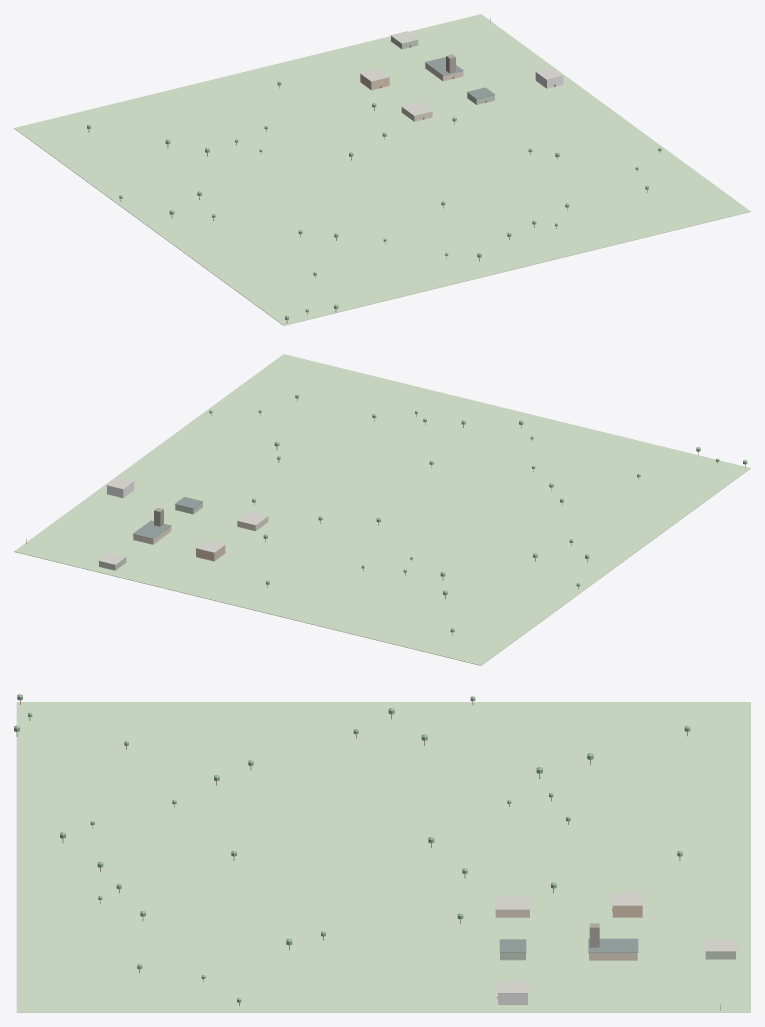
File: chunk_1_6_low.glb
3 renders of one model, top to bottom at view 1: azimuth 30°, elevation 25°; view 2: azimuth 150°, elevation 25°; view 3: azimuth 270°, elevation 25°, orthographic. The views are drawn at different scales.
Parts seen in each view (by area): view 1: city_grass, city_roof_tile, city_foliage_dark; view 2: city_grass, city_roof_tile, city_foliage_dark, city_roof_slate; view 3: city_grass, city_roof_tile, city_foliage_dark, city_roof_slate, city_wall_cream.
Part boxes in pixels (x1,y1,x2,y2): city_grass: (14,14,750,325); city_roof_tile: (360,31,563,116); city_foliage_dark: (87,81,661,319); city_grass: (14,354,750,665); city_roof_tile: (98,477,268,564); city_foliage_dark: (209,394,747,632); city_roof_slate: (133,497,203,539); city_grass: (16,702,750,1012); city_roof_tile: (495,893,736,993); city_foliage_dark: (14,694,690,1002); city_roof_slate: (499,938,638,952); city_wall_cream: (495,910,637,960).
Size of the model in its own units: 512 by 22.42 by 514.
